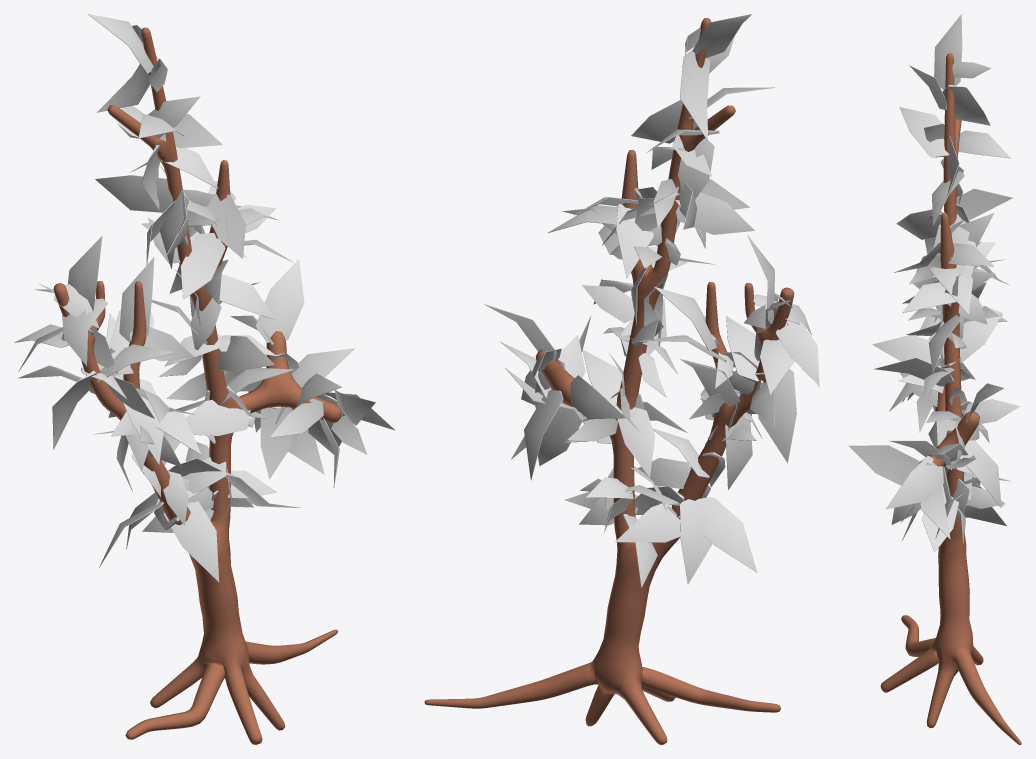
Rendered from Tree2.fbx.
3 renders of one model, left to right at view 1: azimuth 30°, elevation 25°; view 2: azimuth 150°, elevation 25°; view 3: azimuth 270°, elevation 25°, orthographic. The views are drawn at different scales.
Parts seen in each view (by area): view 1: Tree2; view 2: Tree2; view 3: Tree2.
Part boxes in pixels (bbox=[...]): Tree2: bbox=[14, 14, 395, 744]; Tree2: bbox=[424, 14, 819, 744]; Tree2: bbox=[849, 14, 1021, 744].
Size of the model in its own units: 242 by 120 by 491.
